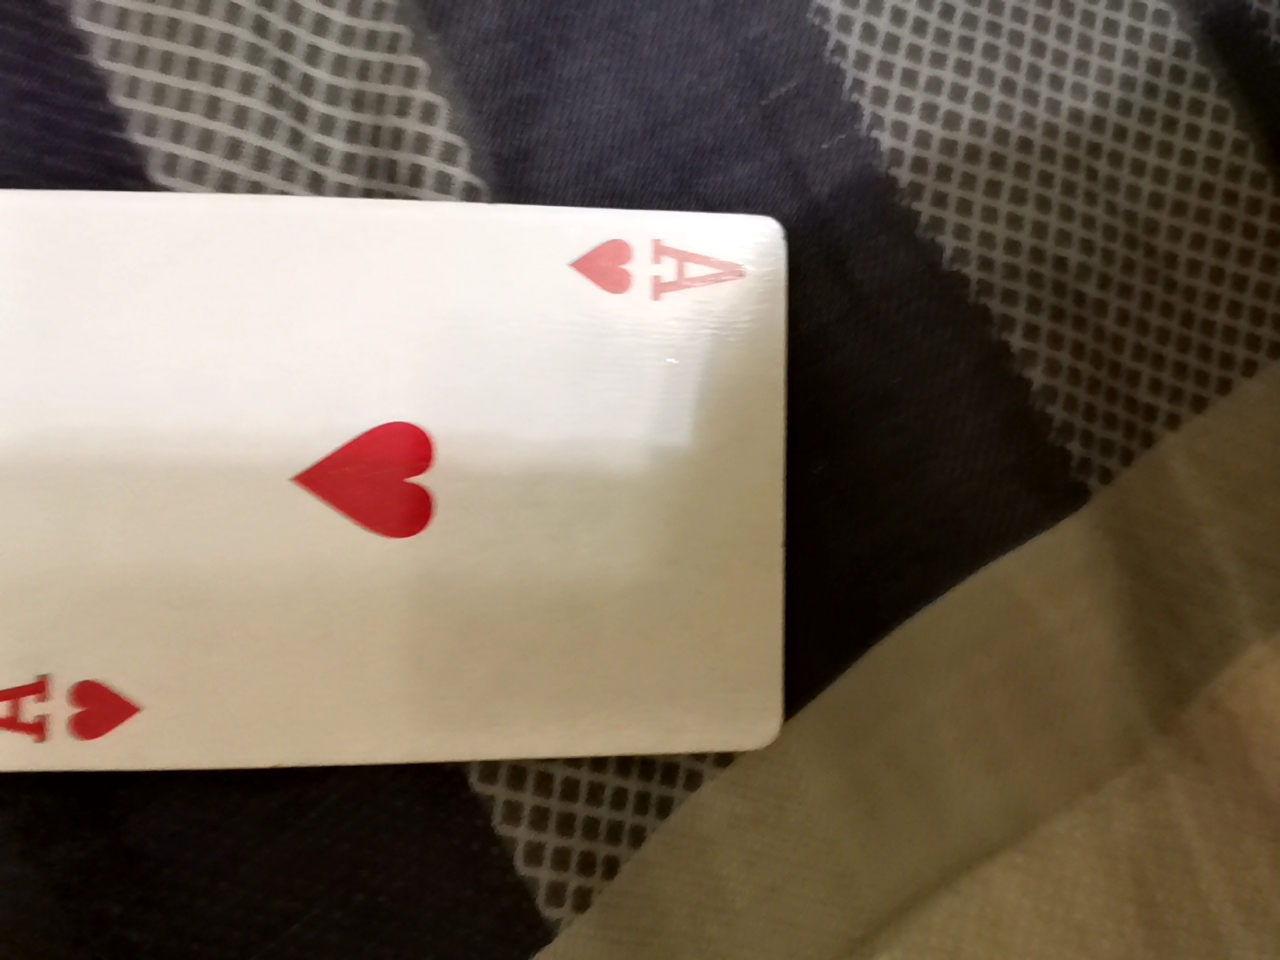hx a: (3, 178, 814, 787)
